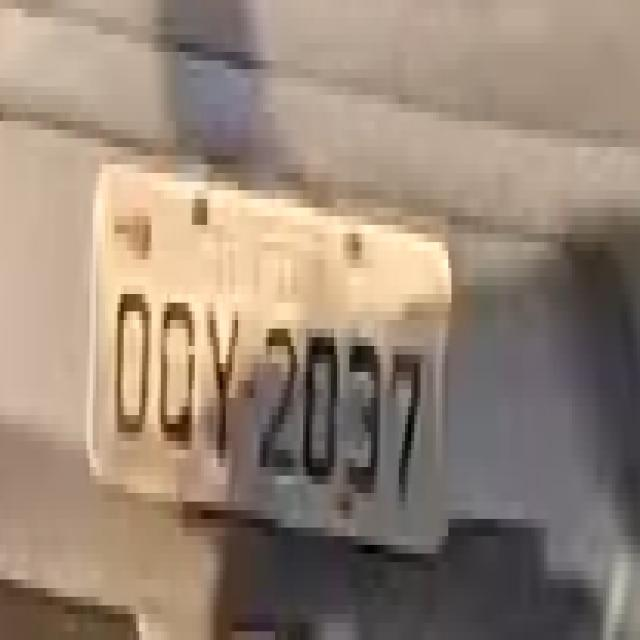Placa_mercosul_carro: (85, 158, 453, 557)
